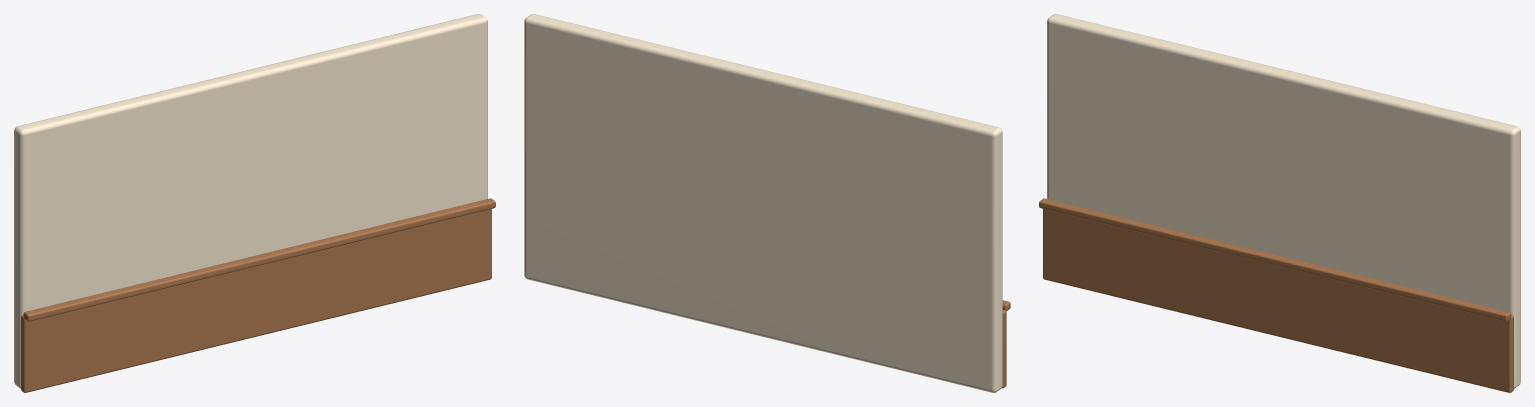
Rendered from wall-back-left.glb.
3 renders of one model, left to right at view 1: azimuth 30°, elevation 25°; view 2: azimuth 150°, elevation 25°; view 3: azimuth 330°, elevation 25°, orthographic.
Parts seen in each view (by area): view 1: Back left, Back left lower band, Back left rail; view 2: Back left; view 3: Back left, Back left lower band, Back left rail.
Part boxes in pixels (bbox=[...]): Back left: bbox=[14, 14, 487, 388]; Back left lower band: bbox=[21, 209, 491, 392]; Back left rail: bbox=[23, 198, 495, 321]; Back left: bbox=[524, 14, 1002, 392]; Back left: bbox=[1047, 14, 1520, 388]; Back left lower band: bbox=[1043, 209, 1513, 392]; Back left rail: bbox=[1039, 198, 1511, 321].
Bounding box in the file's own units: 6.8 × 3.6 × 0.395.
